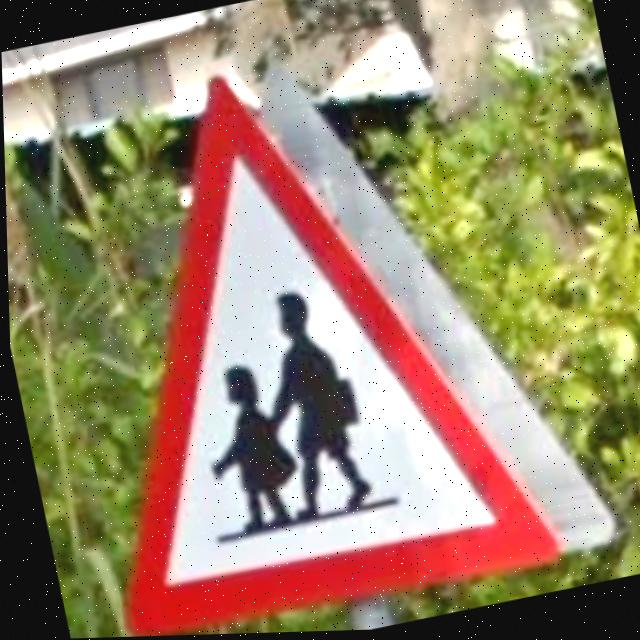childrencross: (120, 77, 560, 637)
